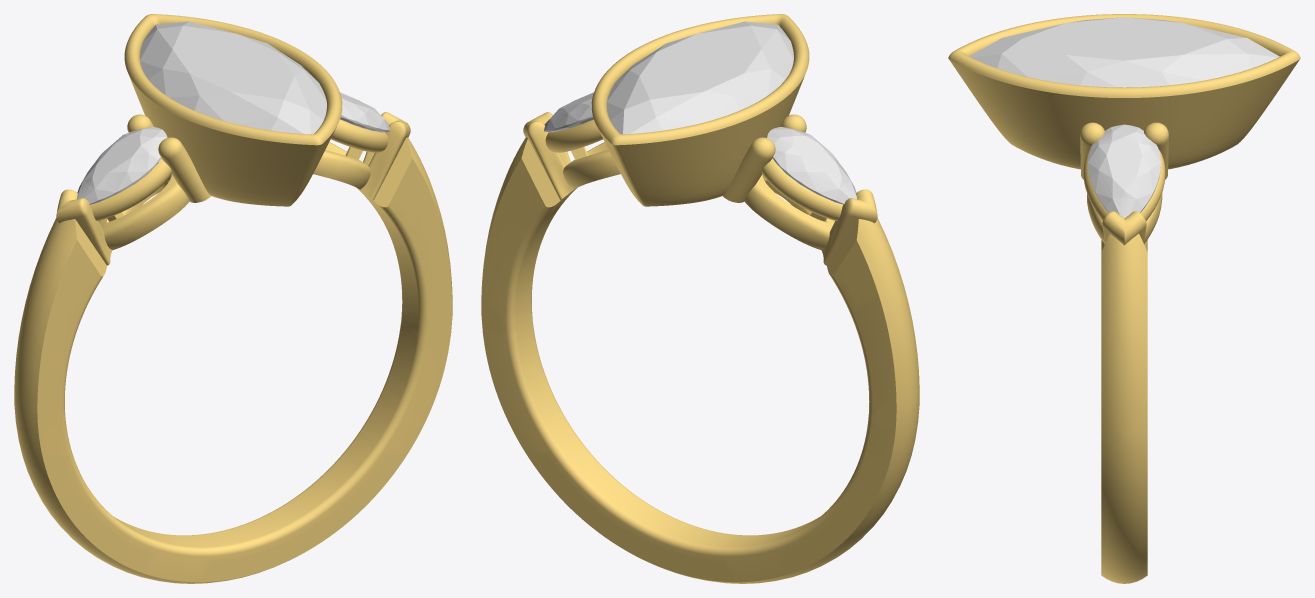
The model's file is JustinV3YGeng_blender.glb.
The picture shows the model from 3 angles, left to right: view 1: azimuth 30°, elevation 25°; view 2: azimuth 150°, elevation 25°; view 3: azimuth 270°, elevation 25°; orthographic projection.
Parts seen in each view (by area): view 1: Justin YG 5x3 for 3d model, Justin marquise dia for 3d model, Justin 5x3 pear dia for 3d model.001, Justin 5x3 pear dia for 3d model; view 2: Justin YG 5x3 for 3d model, Justin marquise dia for 3d model, Justin 5x3 pear dia for 3d model.001, Justin 5x3 pear dia for 3d model; view 3: Justin YG 5x3 for 3d model, Justin marquise dia for 3d model, Justin 5x3 pear dia for 3d model.
Boxes of the visible parts, x1,y1,x2,y2 form: Justin YG 5x3 for 3d model: (14, 14, 452, 583); Justin marquise dia for 3d model: (140, 21, 326, 134); Justin 5x3 pear dia for 3d model.001: (77, 127, 167, 204); Justin 5x3 pear dia for 3d model: (340, 92, 389, 132); Justin YG 5x3 for 3d model: (481, 14, 919, 583); Justin marquise dia for 3d model: (607, 21, 793, 134); Justin 5x3 pear dia for 3d model.001: (766, 127, 856, 204); Justin 5x3 pear dia for 3d model: (544, 92, 593, 132); Justin YG 5x3 for 3d model: (948, 14, 1300, 583); Justin marquise dia for 3d model: (969, 17, 1279, 87); Justin 5x3 pear dia for 3d model: (1088, 124, 1160, 218).
Size of the model in its own units: 20.72 by 23.65 by 14.49.
